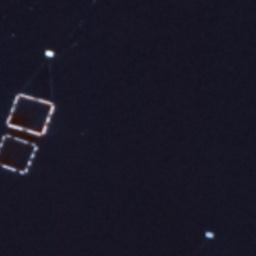square_solid: (4, 92, 57, 138), (1, 131, 39, 178)
